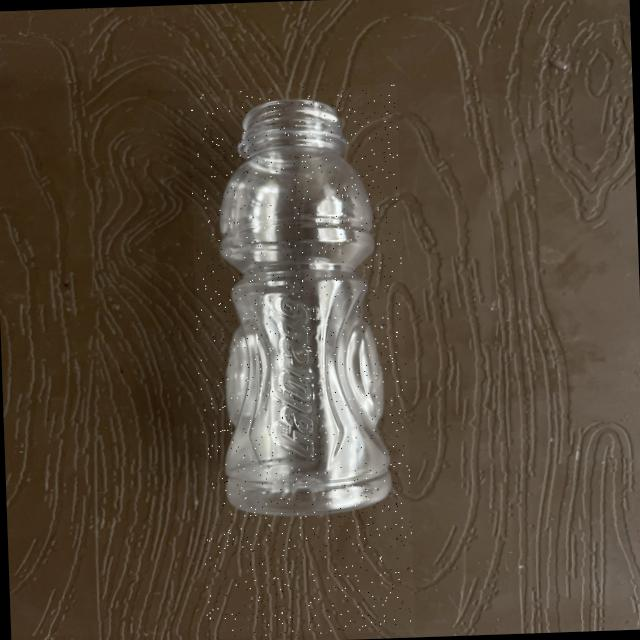PET_ClearBottle: (188, 83, 415, 638)
